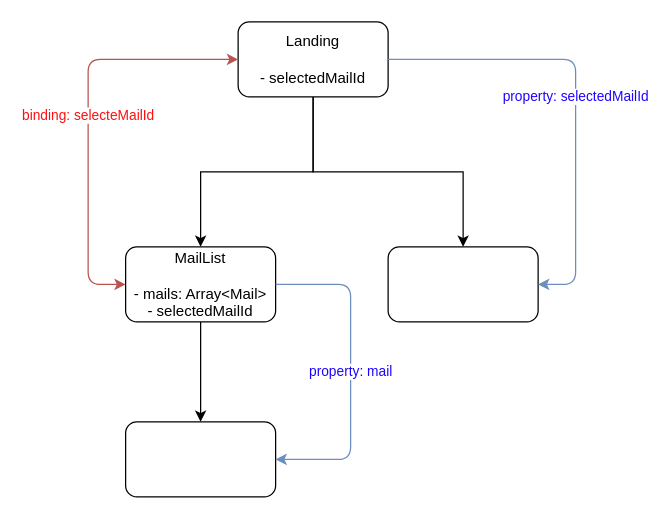
Some shapes in this 670 by 519 pixel diagram are drawn without their labels. Here are the shapes that lost their labels. From the top down, the centre of each, then its label:
(x=462, y=284): MailViewer - selectedMailId
(x=200, y=459): Thumbnail - mail: Mail
